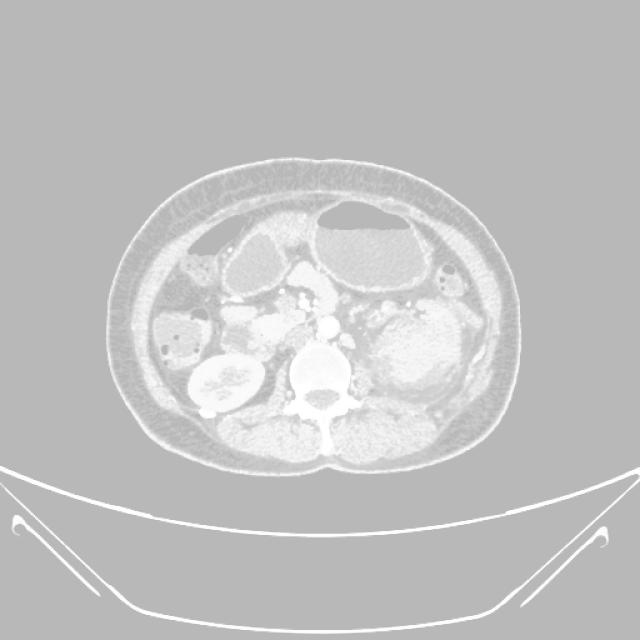TUMOR: (93, 206, 498, 399)
